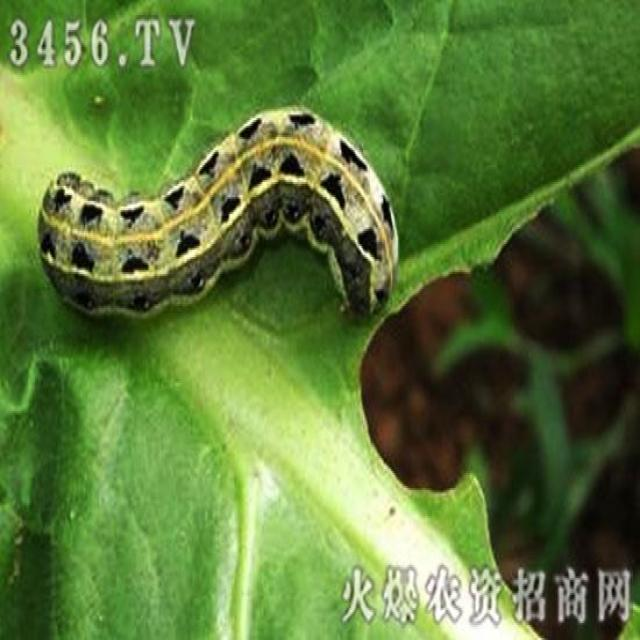BeetArmyWorm-Larva-: (34, 102, 405, 330)
